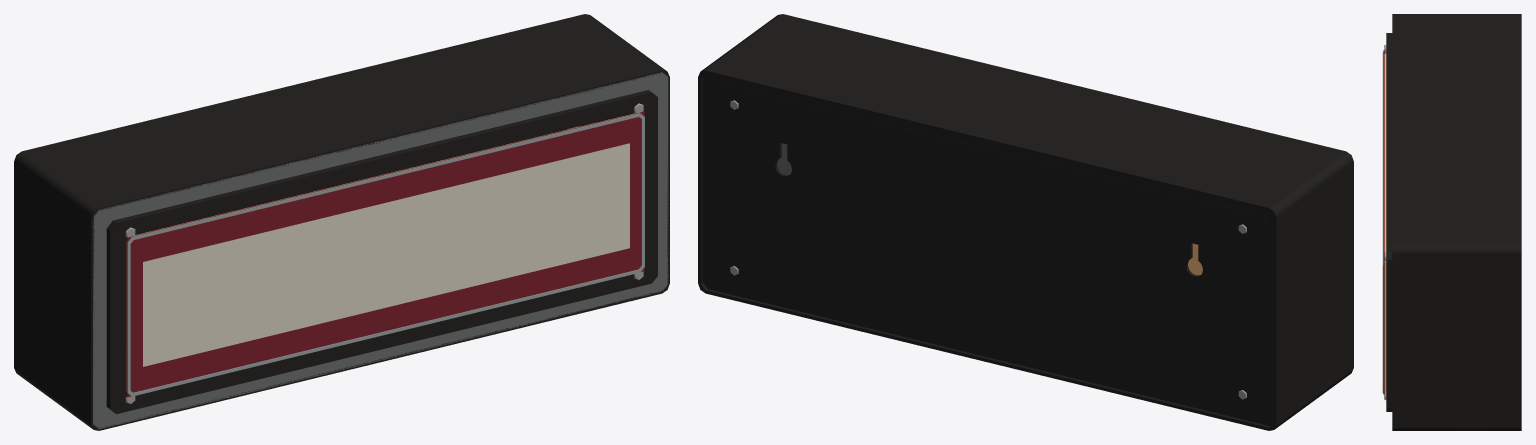
Rendered from on-air-lamp-d15723dd3cdd.glb.
3 views of the same model, side by side, from view 1: azimuth 30°, elevation 25°; view 2: azimuth 150°, elevation 25°; view 3: azimuth 270°, elevation 25° (orthographic). The views are drawn at different scales.
Parts seen in each view (by area): view 1: enamel-black, decal-ink, accent-crimson, metal, glass-clear, emissive-warm; view 2: enamel-black; view 3: enamel-black, emissive-warm, accent-crimson, glass-clear.
Part boxes in pixels (<box>): enamel-black: <box>14,14,669,430</box>; decal-ink: <box>143,143,629,366</box>; accent-crimson: <box>126,111,644,397</box>; metal: <box>93,72,668,429</box>; glass-clear: <box>127,113,644,396</box>; emissive-warm: <box>126,113,634,391</box>; enamel-black: <box>698,14,1353,430</box>; enamel-black: <box>1386,14,1521,430</box>; emissive-warm: <box>1384,54,1386,392</box>; accent-crimson: <box>1383,50,1384,394</box>; glass-clear: <box>1382,52,1383,392</box>.
Bounding box in the file's own units: 0.38 × 0.14 × 0.0947.
